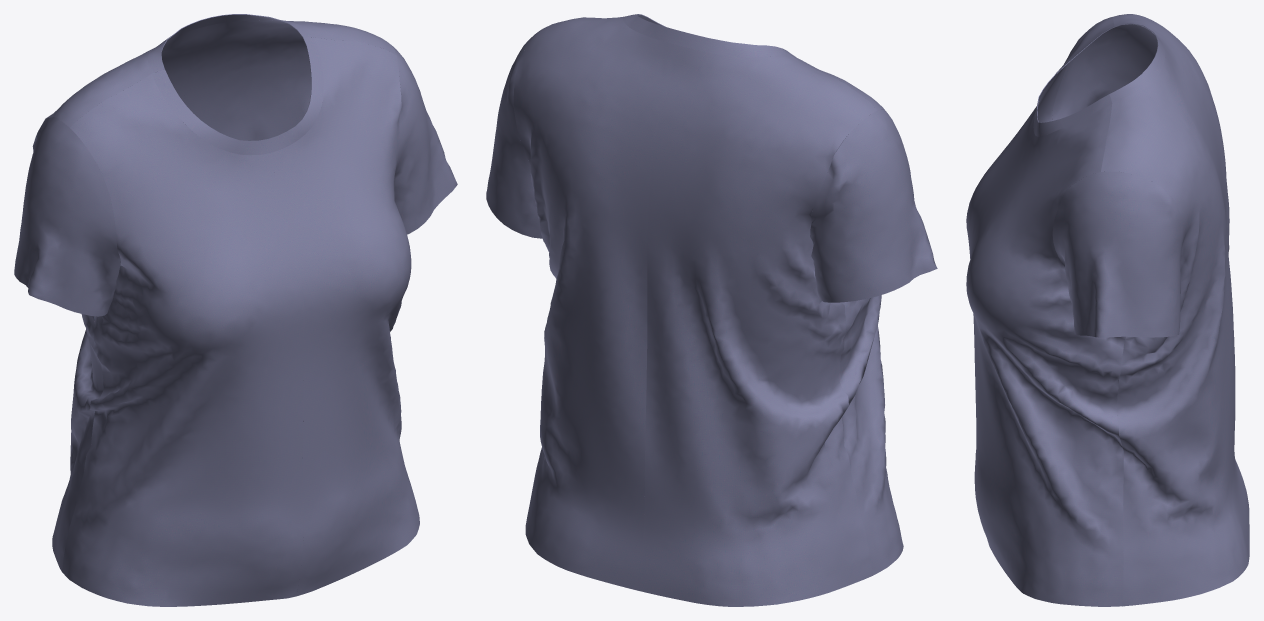
3 renders of one model, left to right at view 1: azimuth 30°, elevation 25°; view 2: azimuth 150°, elevation 25°; view 3: azimuth 270°, elevation 25°, orthographic. The views are drawn at different scales.
Parts seen in each view (by area): view 1: Body_Front (×2), Body_Back (×2), Sleeves (×2), Ribbing (×2); view 2: Body_Back (×2), Sleeves (×2), Body_Front, Ribbing; view 3: Body_Front (×2), Body_Back (×2), Sleeves (×2), Ribbing (×2).
Part boxes in pixels (x1=…): Body_Front (×2): x1=62, y1=37, x2=419, y2=606; Body_Back (×2): x1=46, y1=20, x2=396, y2=571; Sleeves (×2): x1=14, y1=46, x2=457, y2=316; Ribbing (×2): x1=147, y1=14, x2=323, y2=155; Body_Back (×2): x1=513, y1=16, x2=877, y2=606; Sleeves (×2): x1=486, y1=36, x2=937, y2=302; Body_Front: x1=793, y1=56, x2=903, y2=575; Ribbing: x1=623, y1=14, x2=791, y2=57; Body_Front (×2): x1=966, y1=17, x2=1125, y2=606; Body_Back (×2): x1=1101, y1=14, x2=1249, y2=606; Sleeves (×2): x1=1052, y1=24, x2=1182, y2=337; Ribbing (×2): x1=1033, y1=23, x2=1165, y2=136.
Size of the model in its own units: 49.32 by 56.22 by 29.18.
